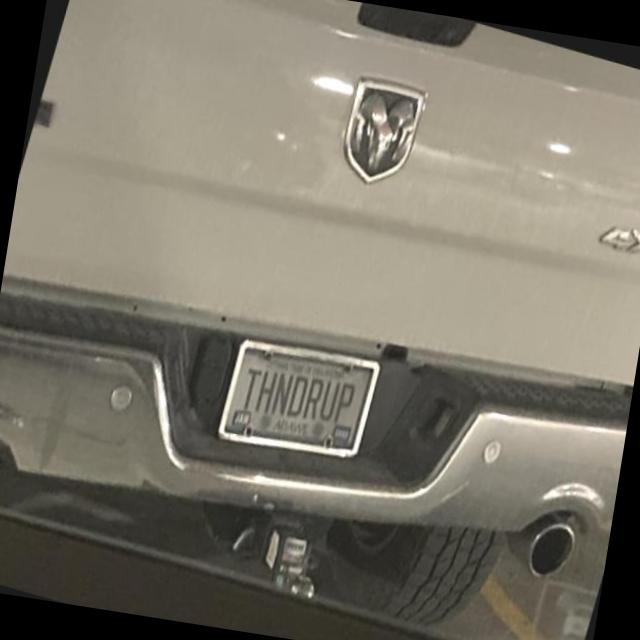LicensePlate: (215, 338, 381, 458)
